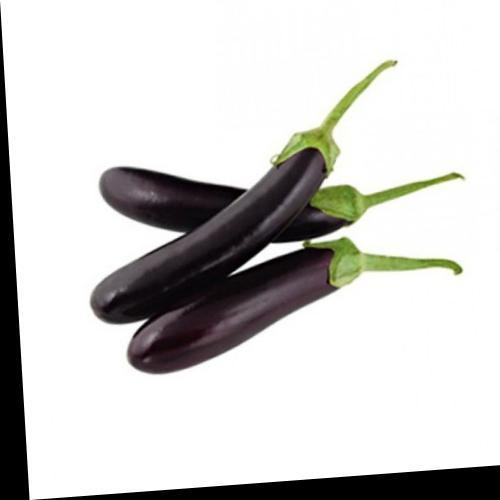eggplant: (49, 26, 489, 416)
